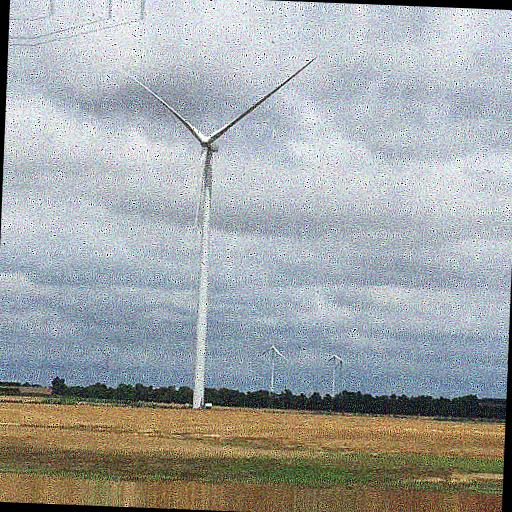wind turbine: (115, 54, 319, 398)
